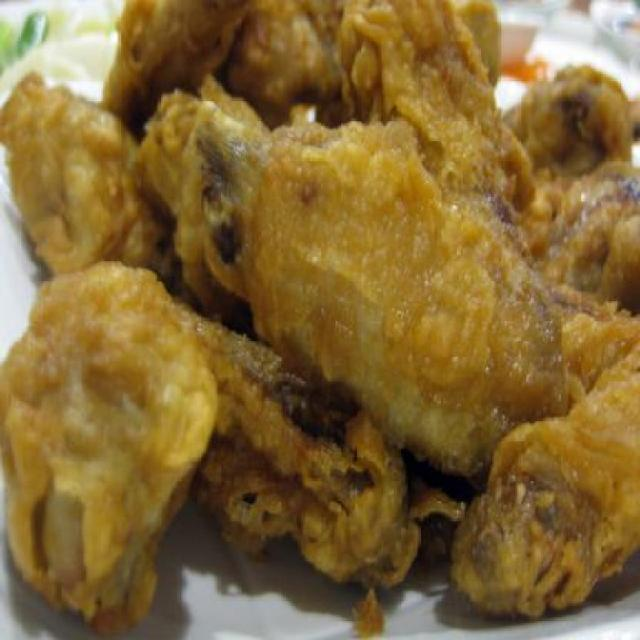Deep fried chicken wing: (9, 9, 638, 606)
